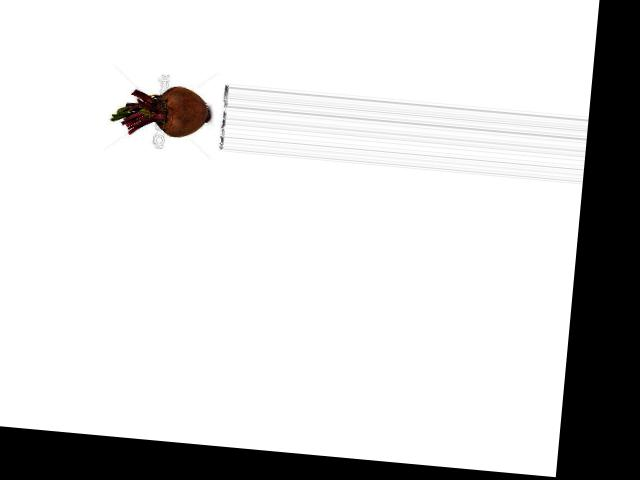beet: (110, 80, 212, 141)
